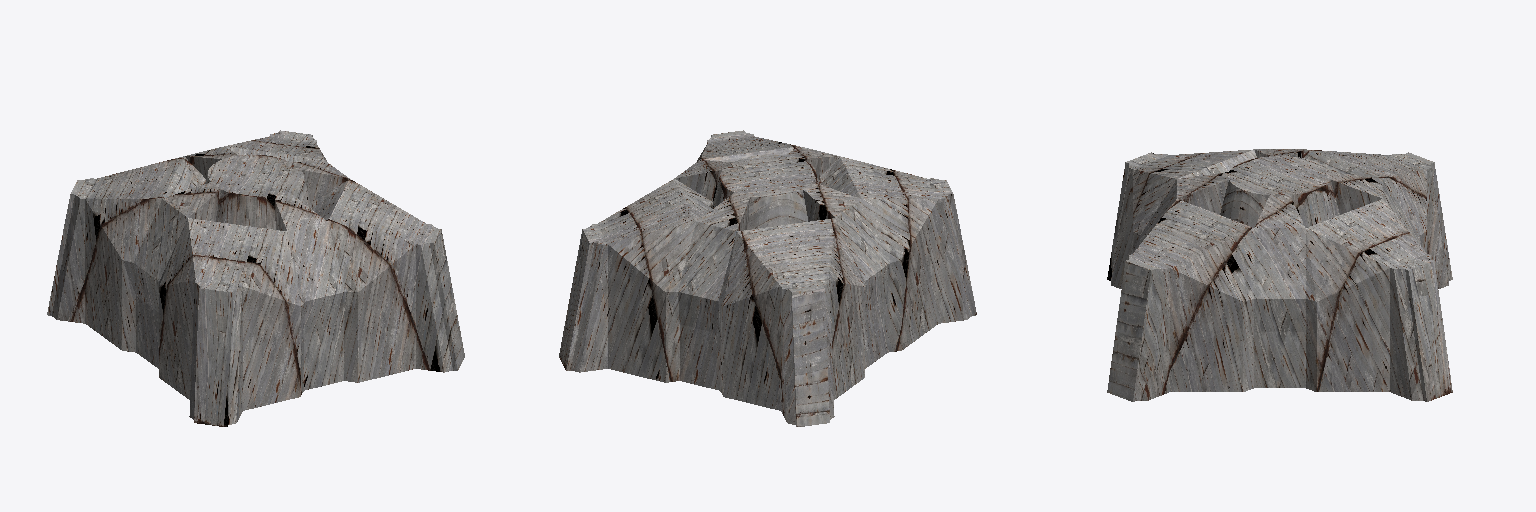
The picture shows the model from 3 angles: view 1: azimuth 30°, elevation 25°; view 2: azimuth 150°, elevation 25°; view 3: azimuth 270°, elevation 25°; orthographic projection.
Visible parts, largest first — view 1: Turret_base_Cube.003; view 2: Turret_base_Cube.003; view 3: Turret_base_Cube.003.
Part boxes in pixels (x1,y1,x2,y2): Turret_base_Cube.003: (47,130,464,426); Turret_base_Cube.003: (559,130,976,426); Turret_base_Cube.003: (1107,149,1452,401).
Bounding box in the file's own units: 2.41 × 1.36 × 2.66.
1 materials, 1 textured.